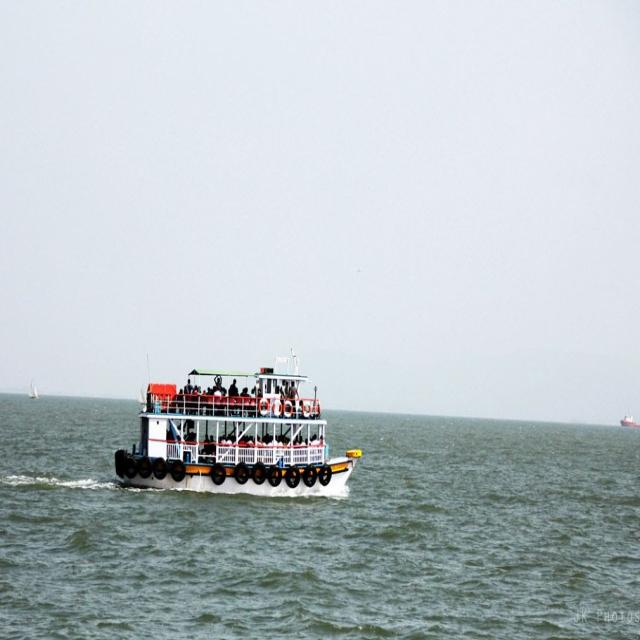houseboat: (105, 315, 364, 497)
